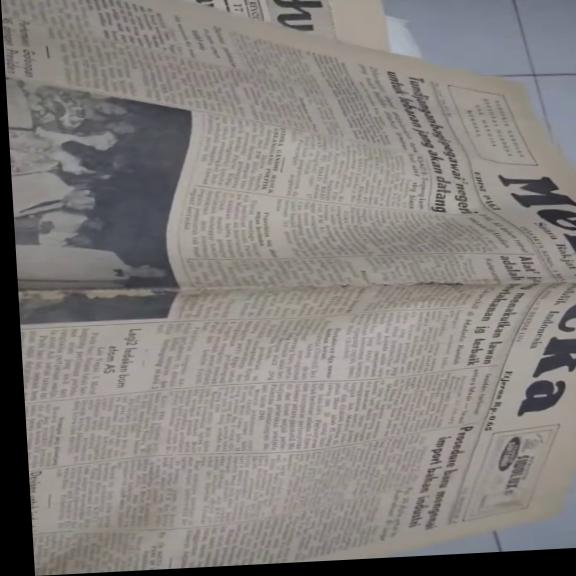Kertas: (21, 272, 576, 574), (368, 44, 576, 557), (160, 62, 558, 297), (3, 0, 377, 87)
